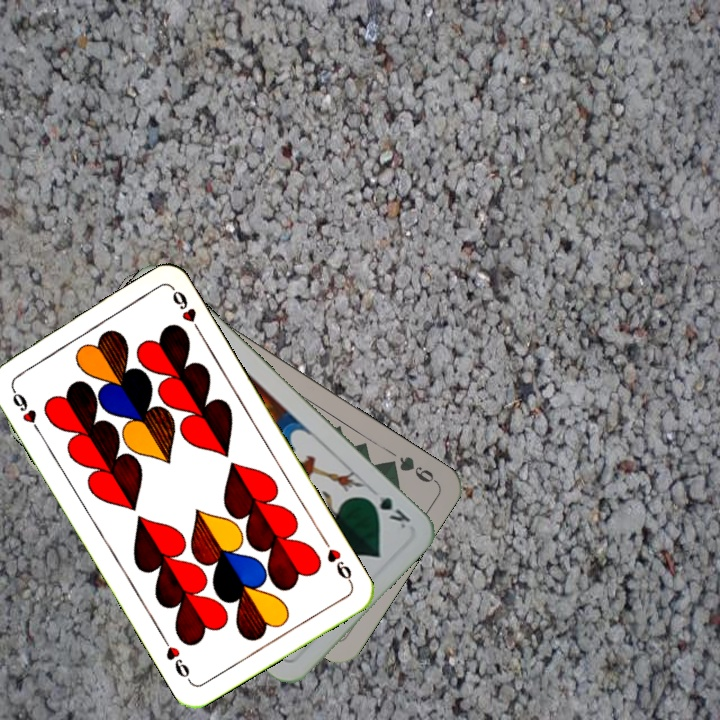G9: (381, 452, 439, 486)
GK: (361, 491, 414, 531)
H9: (319, 534, 356, 587), (7, 383, 44, 436)
